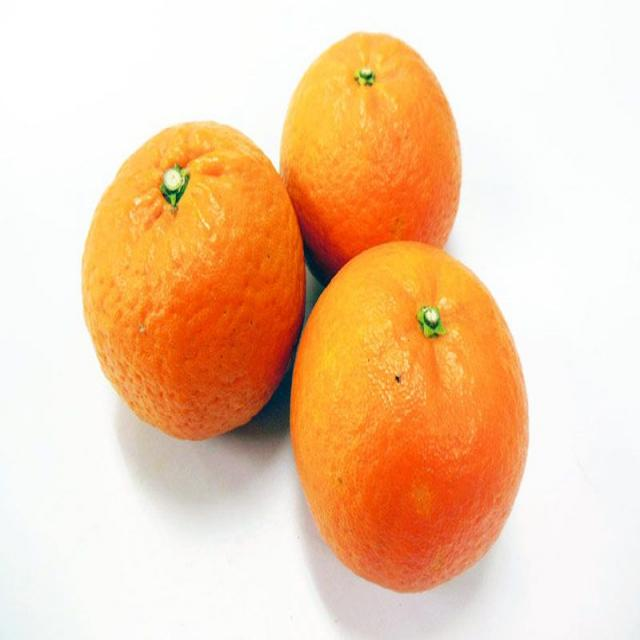Orange: (288, 235, 532, 591), (76, 120, 305, 447), (279, 27, 464, 263)
